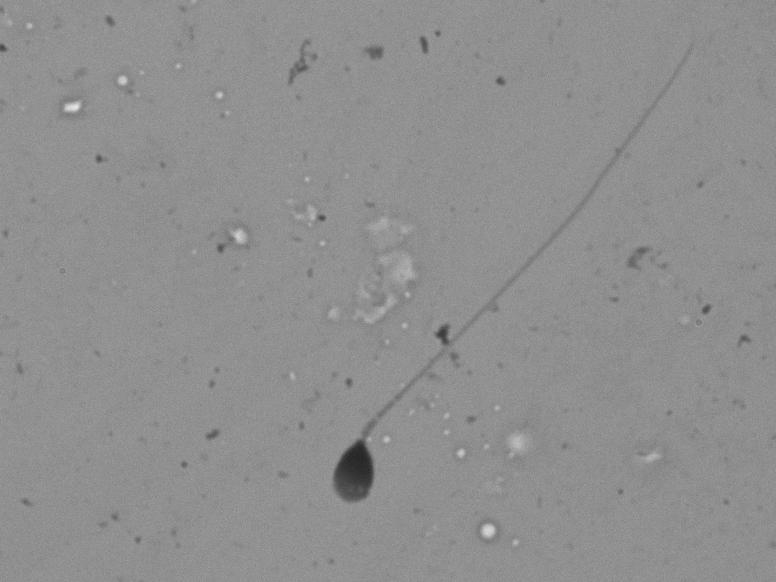Normal: (281, 32, 714, 510)
